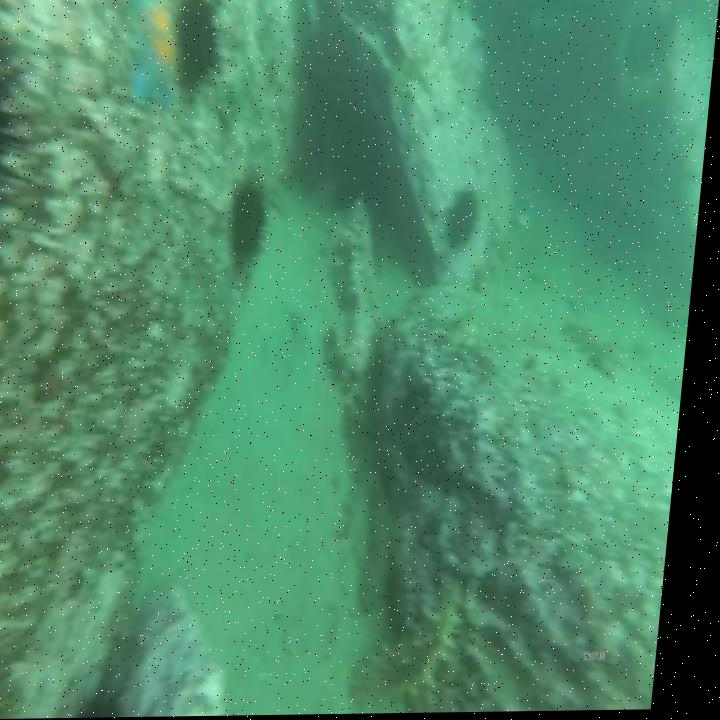echinus: (170, 0, 227, 99), (228, 172, 276, 274), (446, 186, 491, 256)
holothurian: (358, 577, 482, 713)
starfish: (127, 0, 187, 110)
